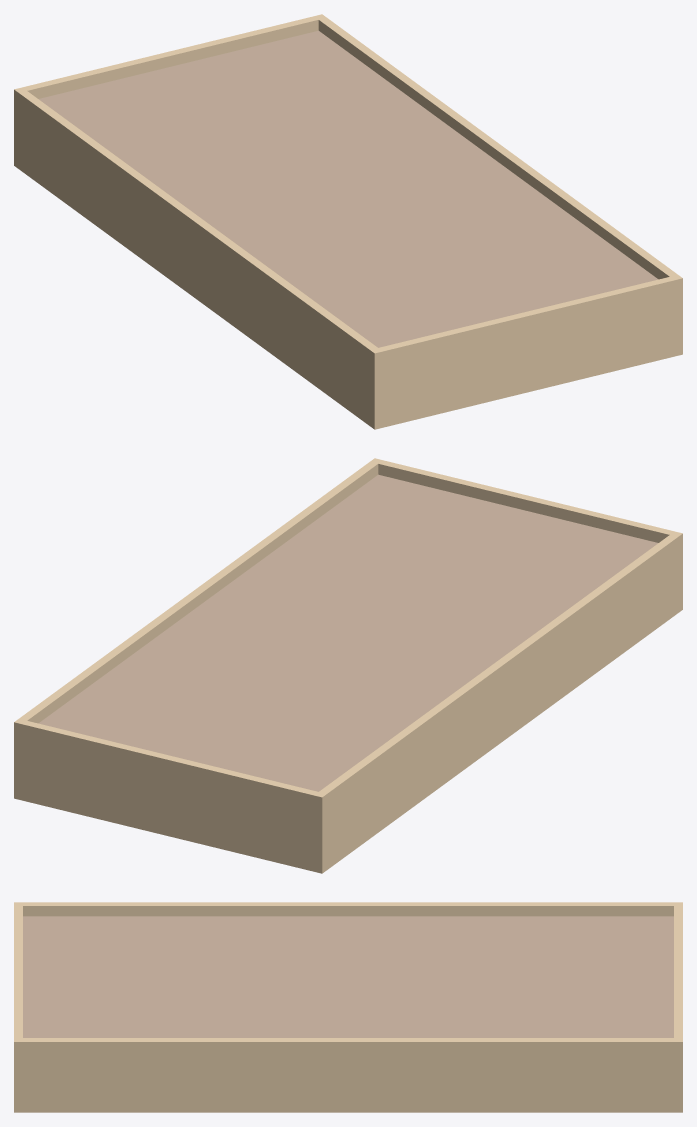
Rendered from raised_bed.dae.
3 views of the same model, one above another, from view 1: azimuth 30°, elevation 25°; view 2: azimuth 150°, elevation 25°; view 3: azimuth 270°, elevation 25° (orthographic). The views are drawn at different scales.
Parts seen in each view (by area): view 1: Untitled_004, Untitled_002, Untitled_001, Untitled_003, Untitled; view 2: Untitled_004, Untitled_002, Untitled, Untitled_003, Untitled_001; view 3: Untitled_004, Untitled_003, Untitled_002, Untitled, Untitled_001.
Boxes of the visible parts, x1,y1,x2,y2 form: Untitled_004: [38, 30, 658, 347]; Untitled_002: [14, 87, 382, 429]; Untitled_001: [379, 277, 674, 427]; Untitled_003: [314, 14, 682, 356]; Untitled: [22, 16, 318, 98]; Untitled_004: [38, 474, 658, 791]; Untitled_002: [314, 531, 682, 873]; Untitled: [22, 721, 317, 871]; Untitled_003: [14, 458, 382, 800]; Untitled_001: [378, 460, 674, 542]; Untitled_004: [23, 916, 673, 1037]; Untitled_003: [14, 1038, 682, 1112]; Untitled_002: [14, 902, 682, 916]; Untitled: [674, 906, 682, 1037]; Untitled_001: [14, 906, 22, 1037].
Bounding box in the file's own units: 1.48 × 3 × 0.35.
